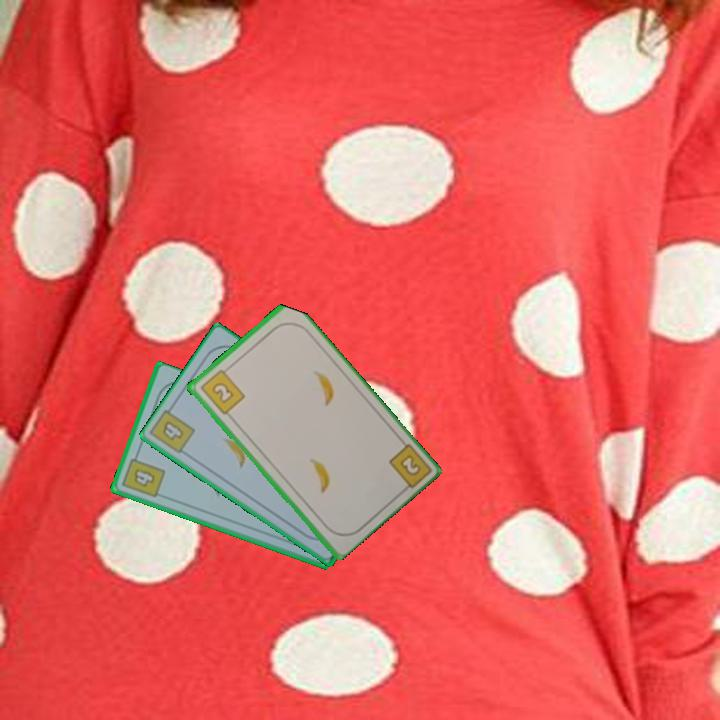2b: (196, 363, 247, 417), (385, 440, 432, 497)
4b: (119, 449, 168, 501), (158, 417, 186, 444)
